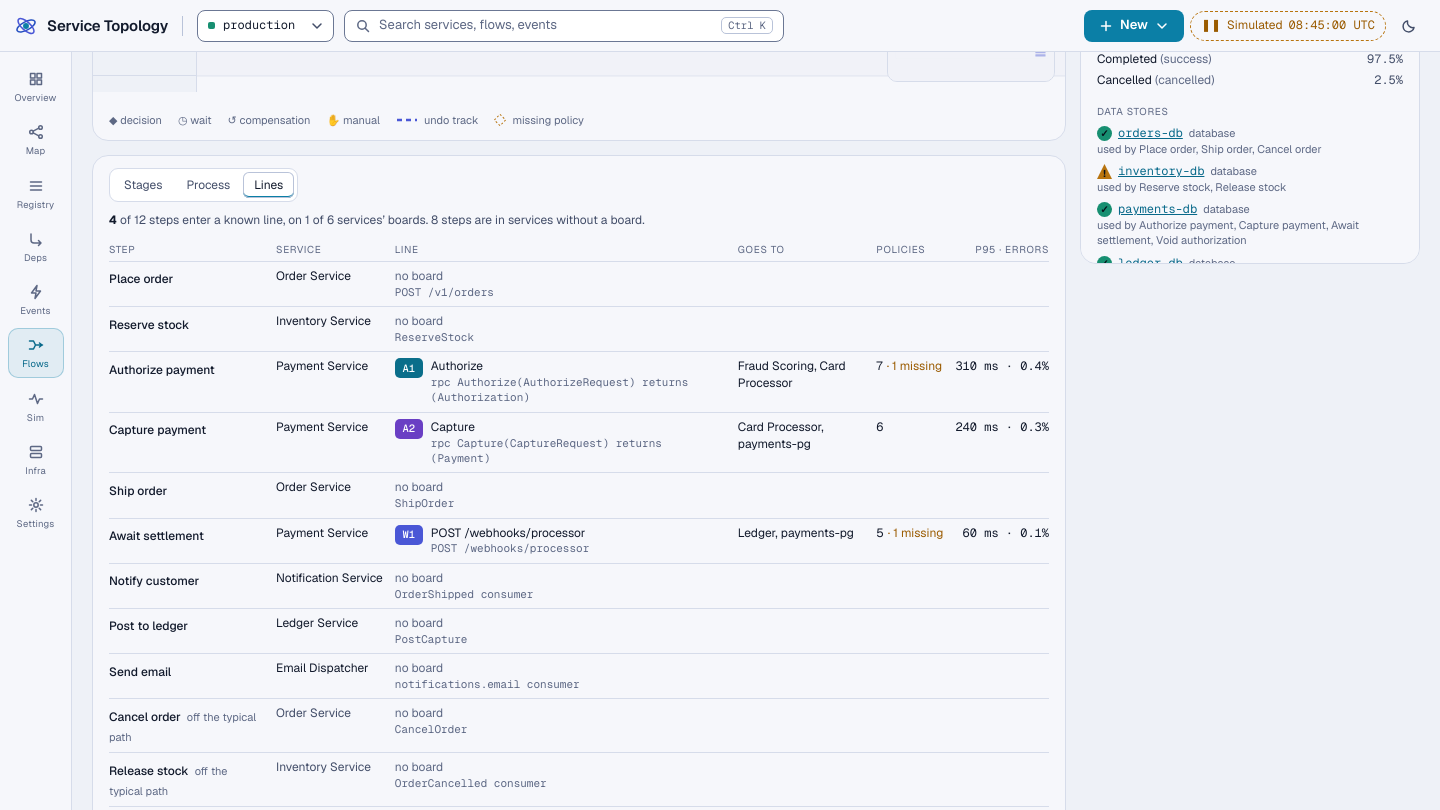
Test: flow board: which line each step uses › selects a step from the table and shows its line stop by stop, with the way to the board
The width and height of the screenshot is (1440, 810).
(page scrolled)
Click the button "Capture payment". click: [158, 431]
box: [109,419,206,443]
(page scrolled)
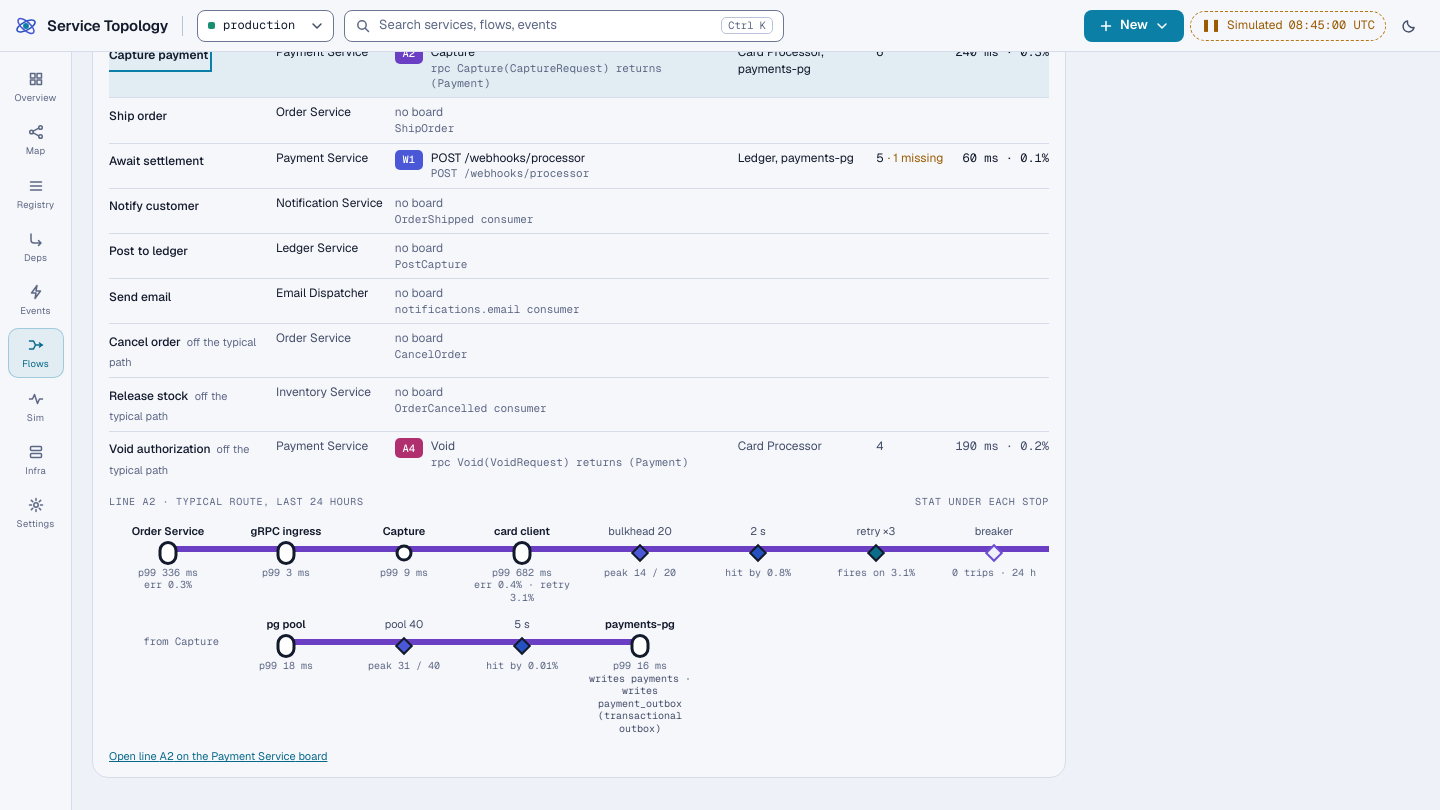
Now the list named "Stops on line A2" is shown, box [109,517,1049,604]
